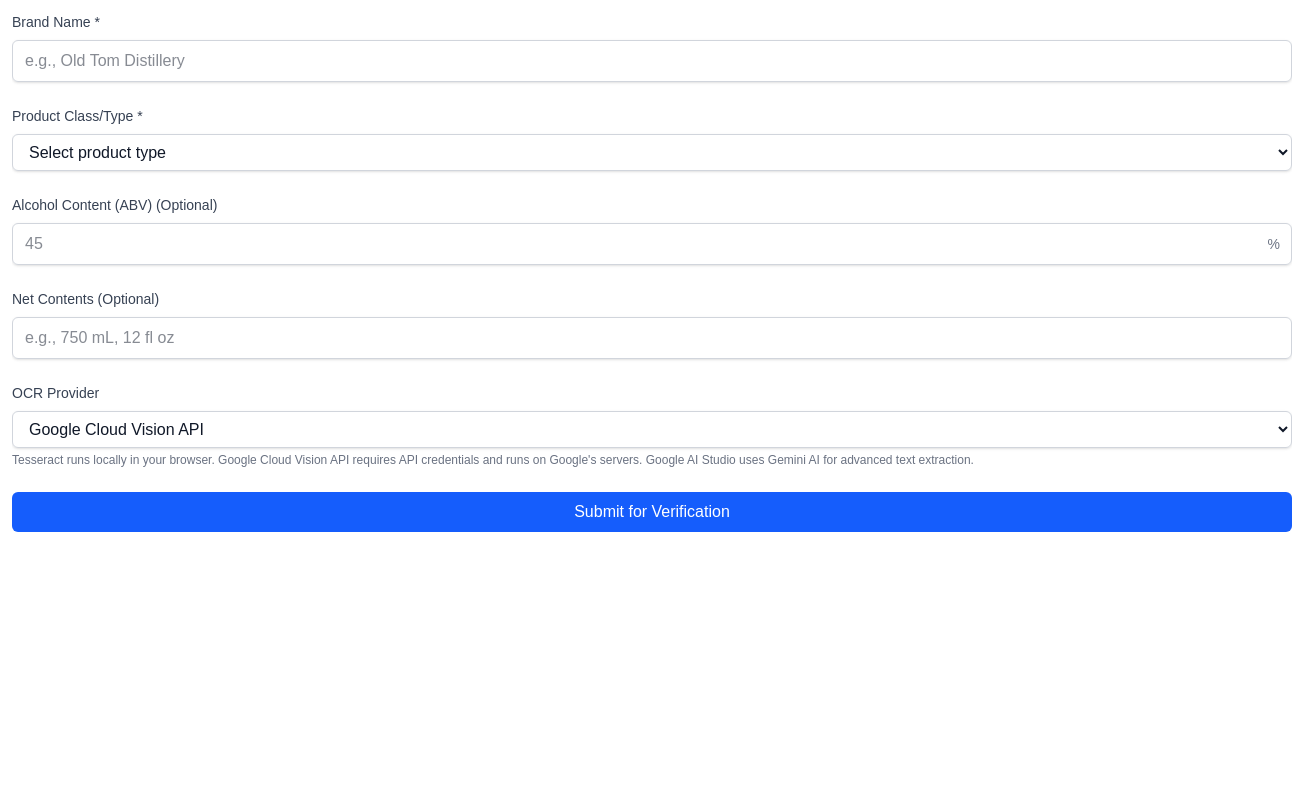
Test case: TTBForm › should validate required fields
This screenshot has width=1304, height=812.
What coordinates should you click on to do the following:
click the button "Submit for Verification"
I would click on:
 (652, 512)
Its box is x1=12 y1=492 x2=1292 y2=532.
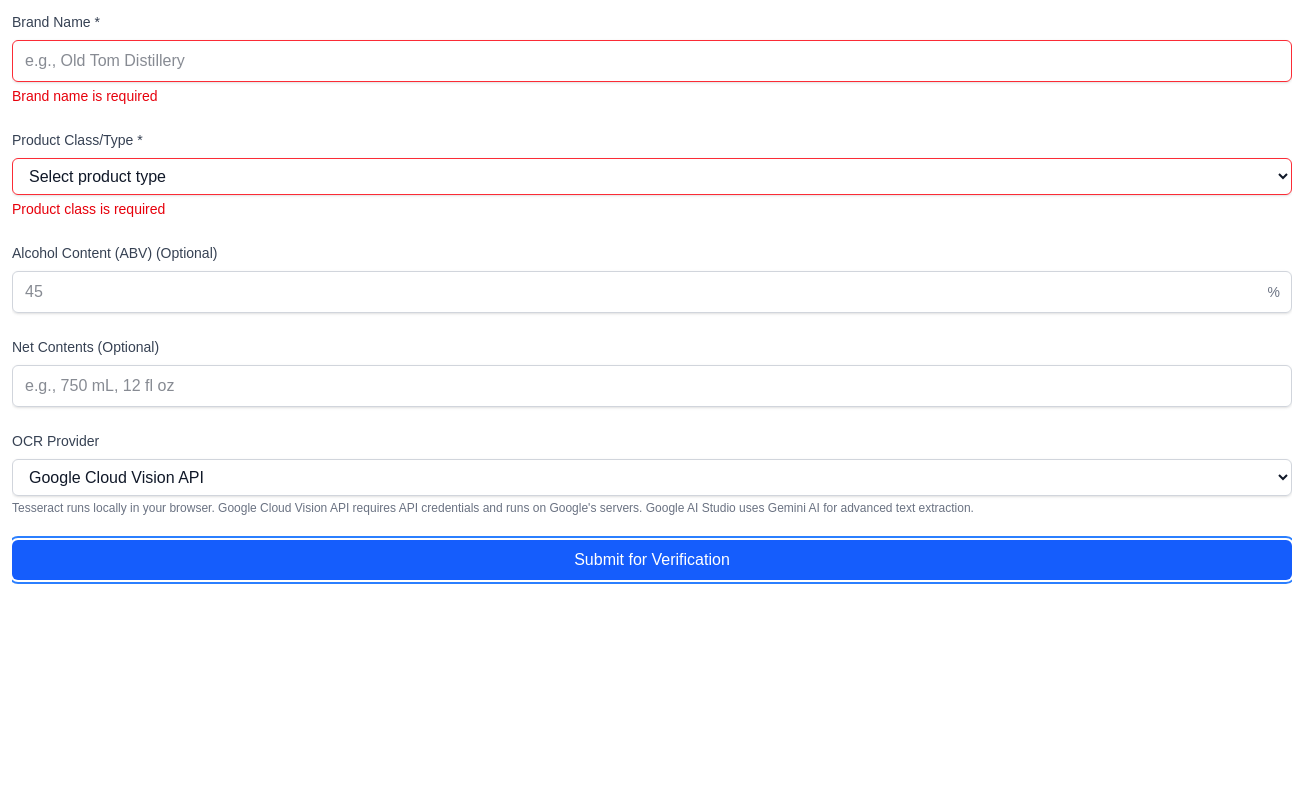
Check: the text "Brand name is required" is shown, box x1=12 y1=88 x2=158 y2=104
Check: the text "Product class is required" is shown, box x1=12 y1=201 x2=165 y2=217
